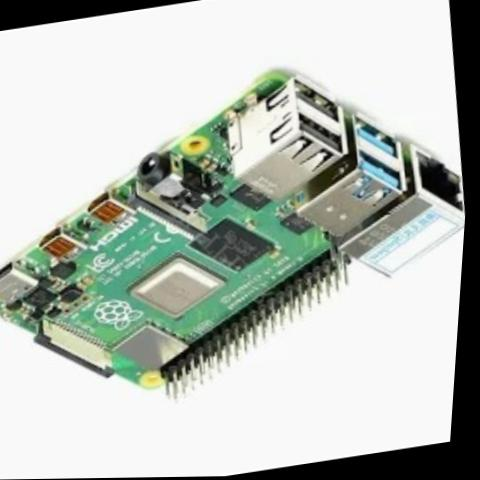Raspberry-Pi-4-Model-B: (0, 32, 478, 439)
